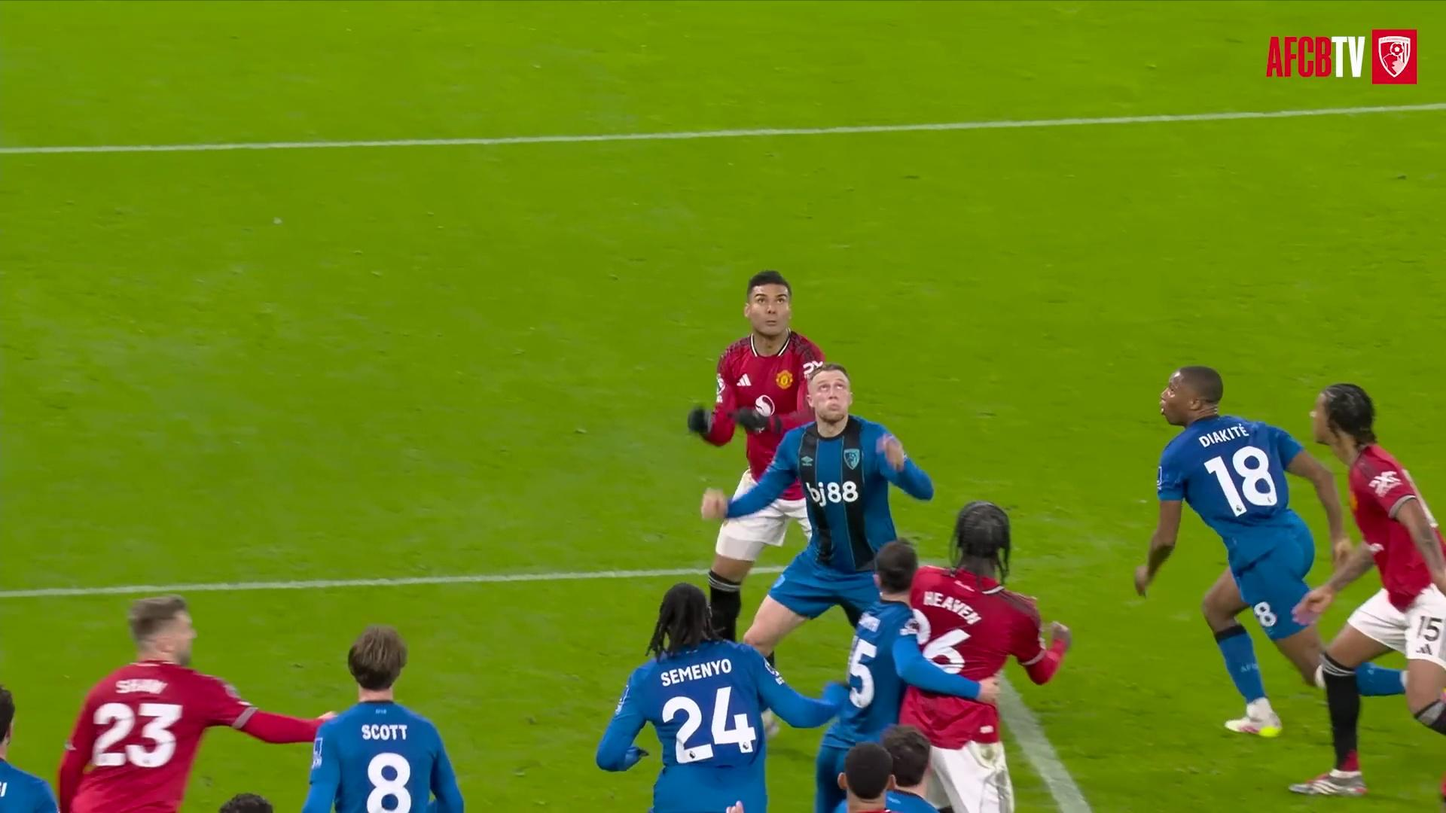player: (1135, 366, 1350, 736), (702, 363, 933, 653), (1291, 384, 1445, 795), (57, 595, 331, 812), (596, 584, 847, 812), (815, 541, 996, 812), (688, 271, 823, 493), (304, 626, 462, 812), (911, 502, 1069, 684), (0, 686, 56, 812), (879, 725, 936, 812), (837, 743, 898, 812), (218, 793, 273, 812)
